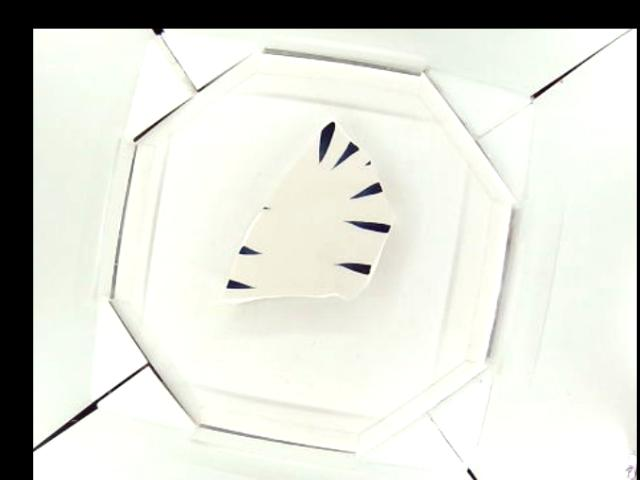China: (218, 116, 394, 304)
